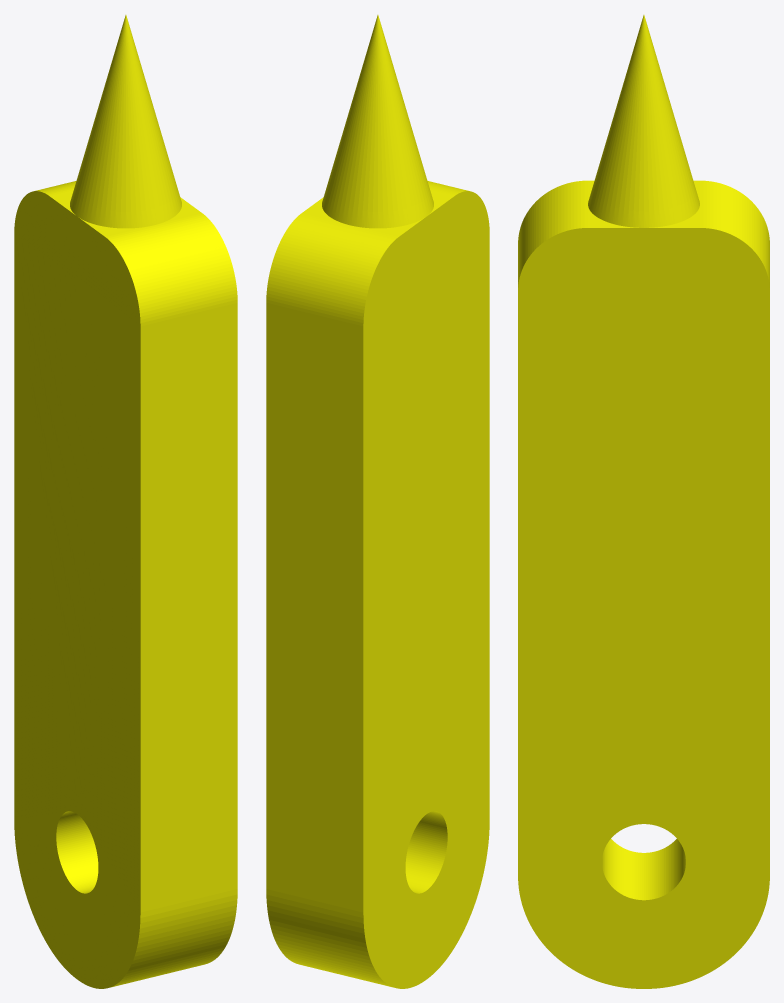
Rendered from third_link.dae.
The picture shows the model from 3 angles, left to right: view 1: azimuth 30°, elevation 25°; view 2: azimuth 150°, elevation 25°; view 3: azimuth 270°, elevation 25°; orthographic projection.
Visible parts, largest first — view 1: node0; view 2: node0; view 3: node0.
Boxes of the visible parts, bbox=[...] form: node0: bbox=[14, 15, 237, 988]; node0: bbox=[266, 15, 489, 988]; node0: bbox=[518, 15, 769, 988].
Bounding box in the file's own units: 0.08 × 0.18 × 0.75.
